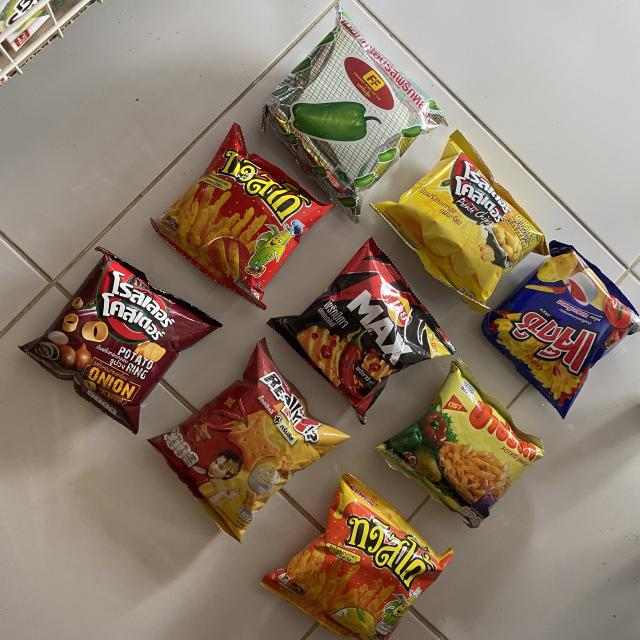plastik: (149, 339, 349, 540), (261, 5, 446, 222), (20, 248, 220, 434), (268, 239, 455, 422), (151, 124, 331, 309), (261, 474, 452, 640), (372, 131, 548, 311), (376, 359, 544, 528), (482, 241, 640, 418)
